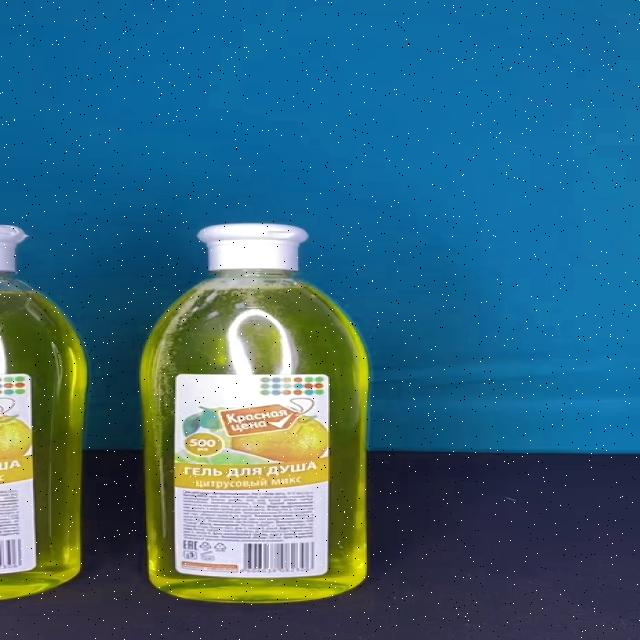Bottle: (137, 222, 370, 604)
Cap: (195, 223, 308, 272)
